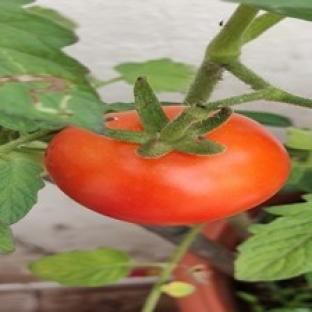Tomato: (46, 115, 289, 225)
